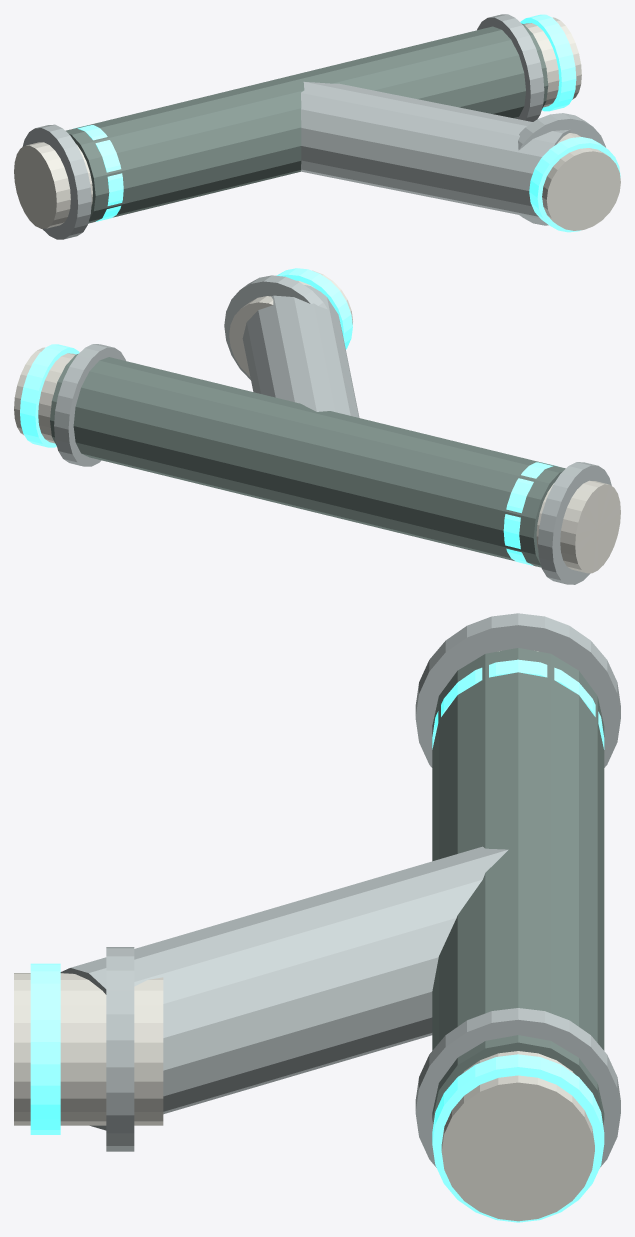
3 renders of one model, top to bottom at view 1: azimuth 30°, elevation 25°; view 2: azimuth 150°, elevation 25°; view 3: azimuth 270°, elevation 25°, orthographic. The views are drawn at different scales.
Visible parts, largest first — view 1: 000_rigid_splitter_trunk, 007_branch_0, 008_branch_connector_0_sealing_socket, 001_input_sealing_socket, 003_input_locking_collar, 006_output_locking_collar, 005_output_cyan_snap_seal, 009_branch_connector_0_cyan_snap_seal, 010_branch_connector_0_locking_collar, 004_output_sealing_socket, 002_input_cyan_snap_seal; view 2: 000_rigid_splitter_trunk, 007_branch_0, 001_input_sealing_socket, 003_input_locking_collar, 006_output_locking_collar, 005_output_cyan_snap_seal, 010_branch_connector_0_locking_collar, 004_output_sealing_socket, 002_input_cyan_snap_seal, 009_branch_connector_0_cyan_snap_seal, 008_branch_connector_0_sealing_socket; view 3: 000_rigid_splitter_trunk, 007_branch_0, 004_output_sealing_socket, 008_branch_connector_0_sealing_socket, 003_input_locking_collar, 006_output_locking_collar, 010_branch_connector_0_locking_collar, 005_output_cyan_snap_seal, 009_branch_connector_0_cyan_snap_seal, 002_input_cyan_snap_seal.
Part boxes in pixels (x1,y1,x2,y2): 000_rigid_splitter_trunk: (65,23,548,223); 007_branch_0: (301,81,570,219); 008_branch_connector_0_sealing_socket: (542,133,620,230); 001_input_sealing_socket: (14,142,92,228); 003_input_locking_collar: (22,124,91,239); 006_output_locking_collar: (477,14,544,121); 005_output_cyan_snap_seal: (520,14,576,111); 009_branch_connector_0_cyan_snap_seal: (529,137,620,232); 010_branch_connector_0_locking_collar: (518,113,605,225); 004_output_sealing_socket: (523,17,581,107); 002_input_cyan_snap_seal: (73,125,123,221); 000_rigid_splitter_trunk: (50,354,565,567); 007_branch_0: (242,285,359,417); 001_input_sealing_socket: (536,480,620,573); 003_input_locking_collar: (538,462,611,584); 006_output_locking_collar: (54,344,125,466); 005_output_cyan_snap_seal: (20,344,79,447); 010_branch_connector_0_locking_collar: (224,275,327,379); 004_output_sealing_socket: (14,347,75,443); 002_input_cyan_snap_seal: (503,462,557,565); 009_branch_connector_0_cyan_snap_seal: (276,268,352,349); 008_branch_connector_0_sealing_socket: (229,270,352,376); 000_rigid_splitter_trunk: (432,648,604,1124); 007_branch_0: (60,846,508,1130); 004_output_sealing_socket: (441,1051,594,1221); 008_branch_connector_0_sealing_socket: (14,973,163,1125); 003_input_locking_collar: (415,613,620,767); 006_output_locking_collar: (415,1008,620,1167); 010_branch_connector_0_locking_collar: (106,947,134,1151); 005_output_cyan_snap_seal: (432,1054,604,1222); 009_branch_connector_0_cyan_snap_seal: (30,963,60,1134); 002_input_cyan_snap_seal: (432,659,604,749).
Size of the model in its own units: 0.58 by 0.11 by 0.325.
